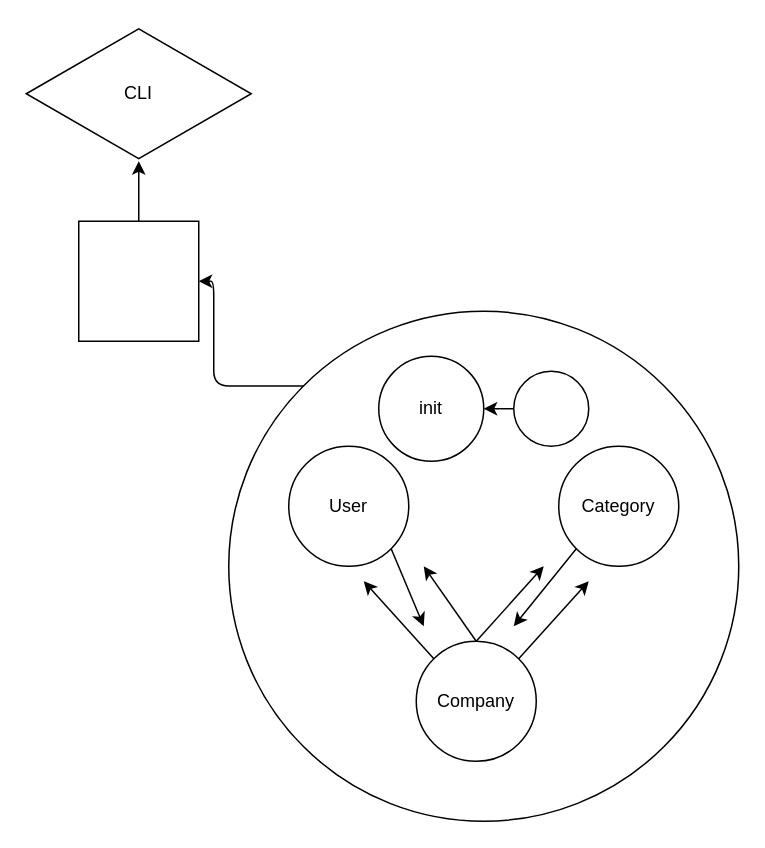
This 765x848 diagram has some shape labels left out. Here are the shapes that lost their labels. From the top down, the centre of each, then its label:
At point 138,280: "helpers".
At point 550,408: "json".
